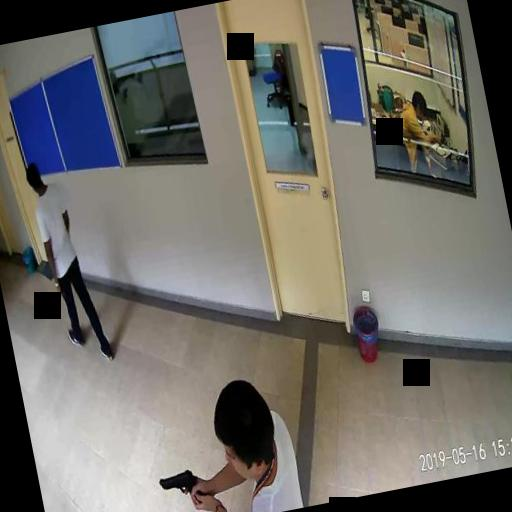Handgun: (156, 466, 202, 508)
